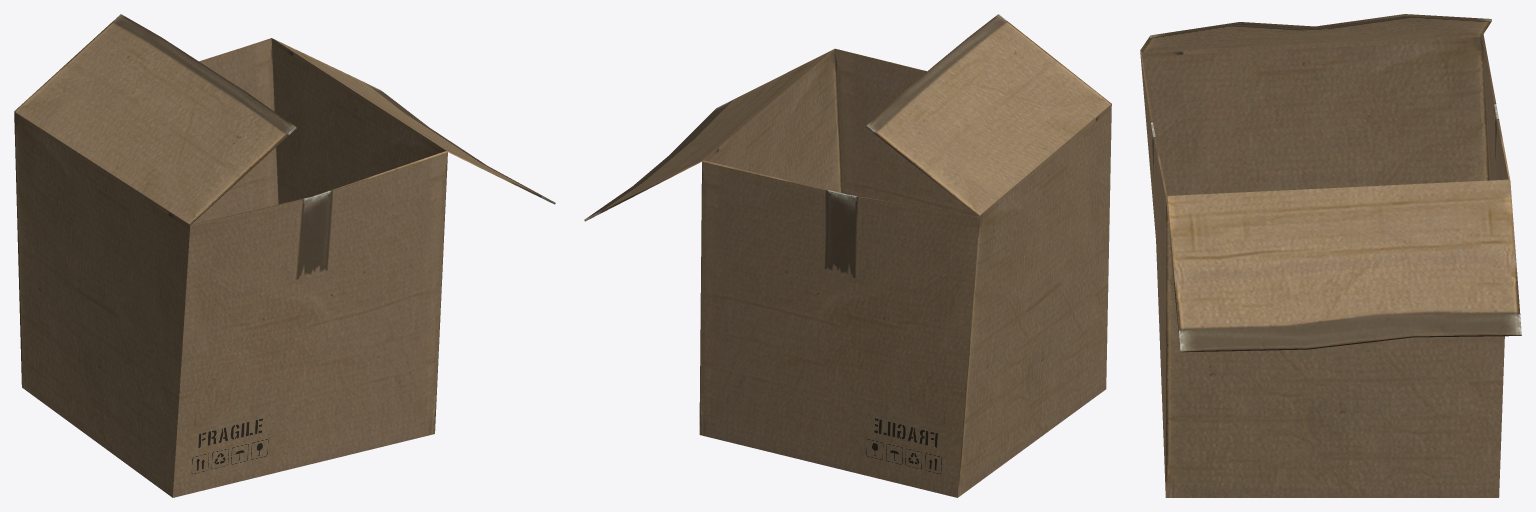
3 views of the same model, side by side, from view 1: azimuth 30°, elevation 25°; view 2: azimuth 150°, elevation 25°; view 3: azimuth 270°, elevation 25° (orthographic). The views are drawn at different scales.
Visible parts, largest first — view 1: box 2; view 2: box 2; view 3: box 2.
Boxes of the visible parts, x1=… form: box 2: x1=14, y1=14, x2=555, y2=497; box 2: x1=584, y1=14, x2=1111, y2=497; box 2: x1=1140, y1=14, x2=1521, y2=497.
Size of the model in its own units: 58.4 by 49.35 by 43.21.
Materials: 1 (1 with a texture image).
